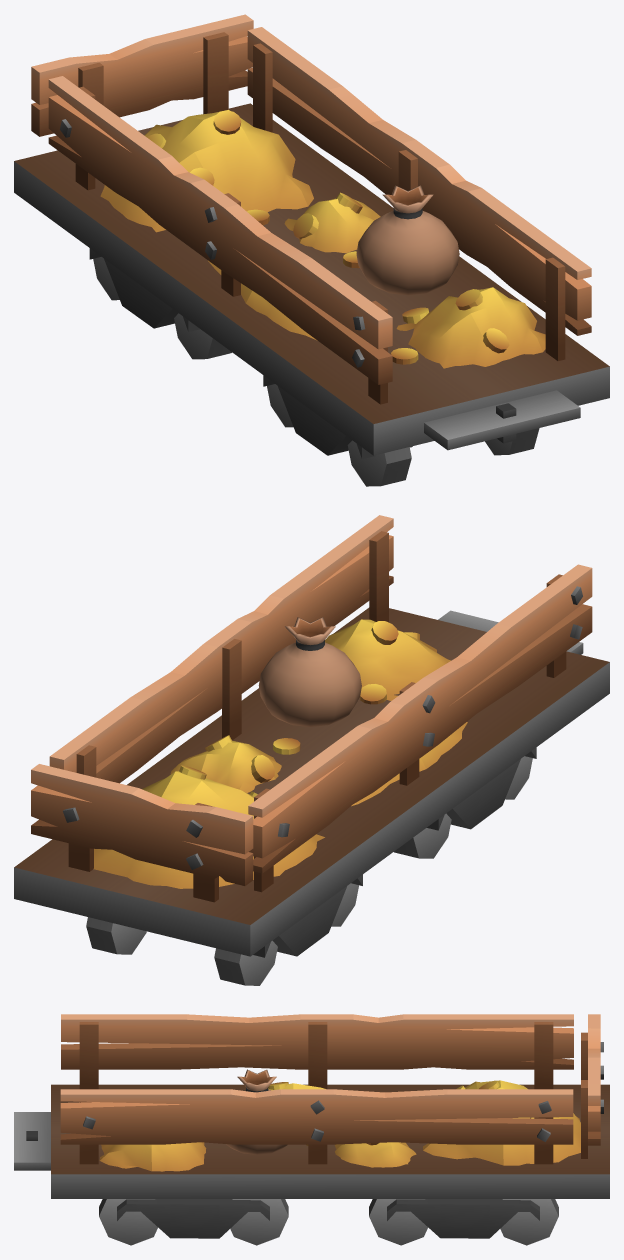
Rendered from Gold_Wagon.fbx.
3 views of the same model, one above another, from view 1: azimuth 30°, elevation 25°; view 2: azimuth 150°, elevation 25°; view 3: azimuth 270°, elevation 25° (orthographic). The views are drawn at different scales.
Visible parts, largest first — view 1: Body, Base, Gold_Pile_4, Gold_Pile_1, Bag, Gold_Pile_3, Gold_Pile_2; view 2: Body, Base, Bag, Gold_Pile_1, Gold_Pile_4, Gold_Pile_3, Gold_Pile_2; view 3: Body, Base, Gold_Pile_4, Gold_Pile_1, Gold_Pile_3, Bag, Gold_Pile_2.
Boxes of the visible parts, <box> form: Body: <box>31,14,591,404</box>; Base: <box>14,103,609,486</box>; Gold_Pile_4: <box>100,109,313,232</box>; Gold_Pile_1: <box>390,287,545,368</box>; Bag: <box>356,185,459,295</box>; Gold_Pile_3: <box>284,192,380,268</box>; Gold_Pile_2: <box>208,260,317,340</box>; Body: <box>31,515,592,902</box>; Base: <box>14,607,609,985</box>; Bag: <box>258,617,361,726</box>; Gold_Pile_1: <box>325,619,450,704</box>; Gold_Pile_4: <box>93,765,324,888</box>; Gold_Pile_3: <box>170,735,300,792</box>; Gold_Pile_2: <box>351,722,467,806</box>; Body: <box>60,1014,603,1164</box>; Base: <box>14,1084,609,1245</box>; Gold_Pile_4: <box>423,1080,580,1165</box>; Gold_Pile_1: <box>99,1142,206,1171</box>; Gold_Pile_3: <box>306,1142,416,1167</box>; Bag: <box>226,1069,287,1154</box>; Gold_Pile_2: <box>268,1082,325,1090</box>.
Size of the model in its own units: 338 by 283 by 949.
